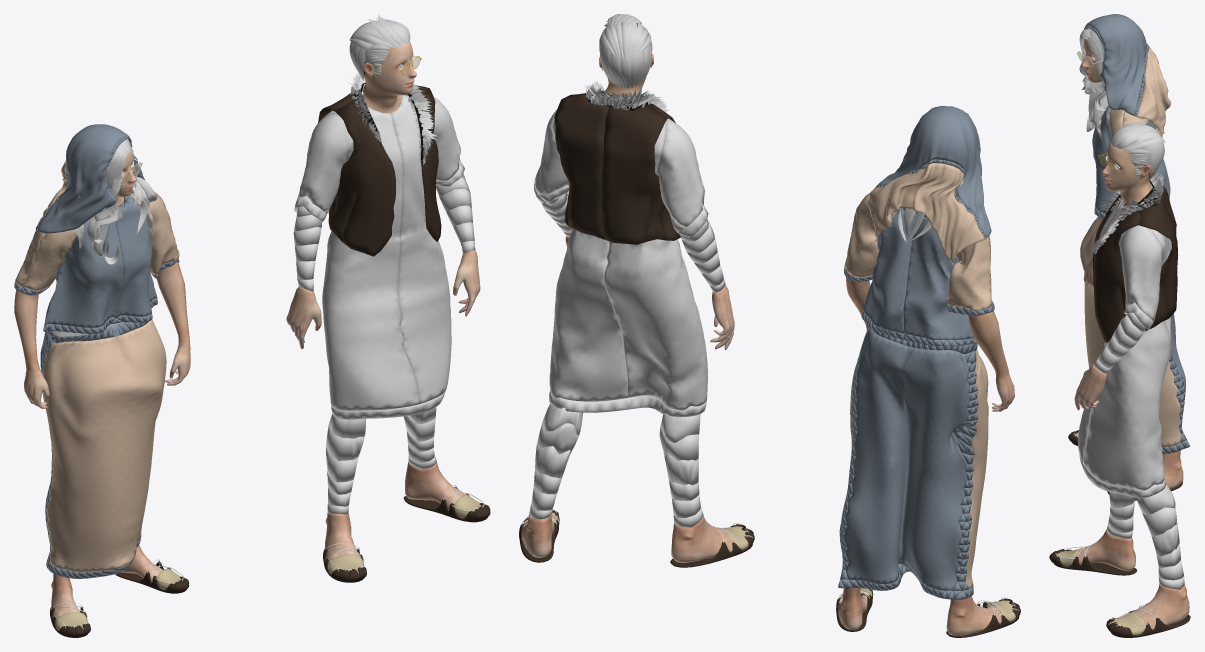
File: Haveto1TheGlassesPublish1.fbx
3 renders of one model, left to right at view 1: azimuth 30°, elevation 25°; view 2: azimuth 150°, elevation 25°; view 3: azimuth 270°, elevation 25°, orthographic. The views are drawn at different scales.
Parts seen in each view (by area): view 1: TheGlassesRobe.001, TheGlassesSkirt.002, Eve, TheGlassesTShirt.002, TheGlassesVest.001, Eve.002, simply_cloth.001, Plane.008_grid_mesh.001, Plane.002, Plane.010, Fur, HairMesh.001_grid.003_mesh (+1 smaller); view 2: TheGlassesSkirt.002, TheGlassesRobe.001, TheGlassesTShirt.002, TheGlassesVest.001, Eve, simply_cloth.001, Eve.002, Plane.002, HairMesh.007_grid.003_mesh, HairMesh.003_grid.003_mesh, Plane.010, Fur; view 3: TheGlassesRobe.001, Eve, TheGlassesVest.001, simply_cloth.001, TheGlassesSkirt.002, Plane.002, TheGlassesTShirt.002, Plane.008_grid_mesh.001, Eve.002, Fur, HairMesh.001_grid.003_mesh, HairMesh.003_grid.003_mesh (+3 smaller).
Part boxes in pixels (box(x1,y1,x2,y2)): TheGlassesRobe.001: box(294, 95, 464, 419); TheGlassesSkirt.002: box(40, 319, 166, 578); Eve: box(286, 41, 480, 568); TheGlassesTShirt.002: box(14, 191, 179, 333); TheGlassesVest.001: box(318, 82, 441, 256); Eve.002: box(14, 152, 190, 621); simply_cloth.001: box(35, 124, 145, 233); Plane.008_grid_mesh.001: box(66, 139, 157, 264); Plane.002: box(323, 487, 490, 582); Plane.010: box(50, 561, 189, 637); Fur: box(349, 73, 437, 164); HairMesh.001_grid.003_mesh: box(368, 14, 410, 47); TheGlassesSkirt.002: box(838, 327, 988, 599); TheGlassesRobe.001: box(534, 110, 708, 417); TheGlassesTShirt.002: box(844, 193, 994, 346); TheGlassesVest.001: box(554, 91, 680, 244); Eve: box(521, 23, 738, 562); simply_cloth.001: box(867, 106, 991, 264); Eve.002: box(838, 277, 1014, 635); Plane.002: box(519, 510, 754, 567); HairMesh.007_grid.003_mesh: box(600, 30, 651, 88); HairMesh.003_grid.003_mesh: box(601, 20, 651, 61); Plane.010: box(836, 588, 1020, 637); Fur: box(584, 81, 669, 112); TheGlassesRobe.001: box(1078, 198, 1171, 497); Eve: box(1071, 141, 1189, 629); TheGlassesVest.001: box(1093, 179, 1178, 342); simply_cloth.001: box(1079, 14, 1170, 133); TheGlassesSkirt.002: box(1080, 217, 1189, 453); Plane.002: box(1049, 547, 1190, 637); TheGlassesTShirt.002: box(1092, 105, 1170, 218); Plane.008_grid_mesh.001: box(1079, 27, 1156, 143); Eve.002: box(1081, 39, 1183, 488); Fur: box(1089, 172, 1164, 254); HairMesh.001_grid.003_mesh: box(1111, 122, 1151, 149); HairMesh.003_grid.003_mesh: box(1111, 123, 1165, 151).
Size of the model in its own units: 163 by 172 by 47.03.
